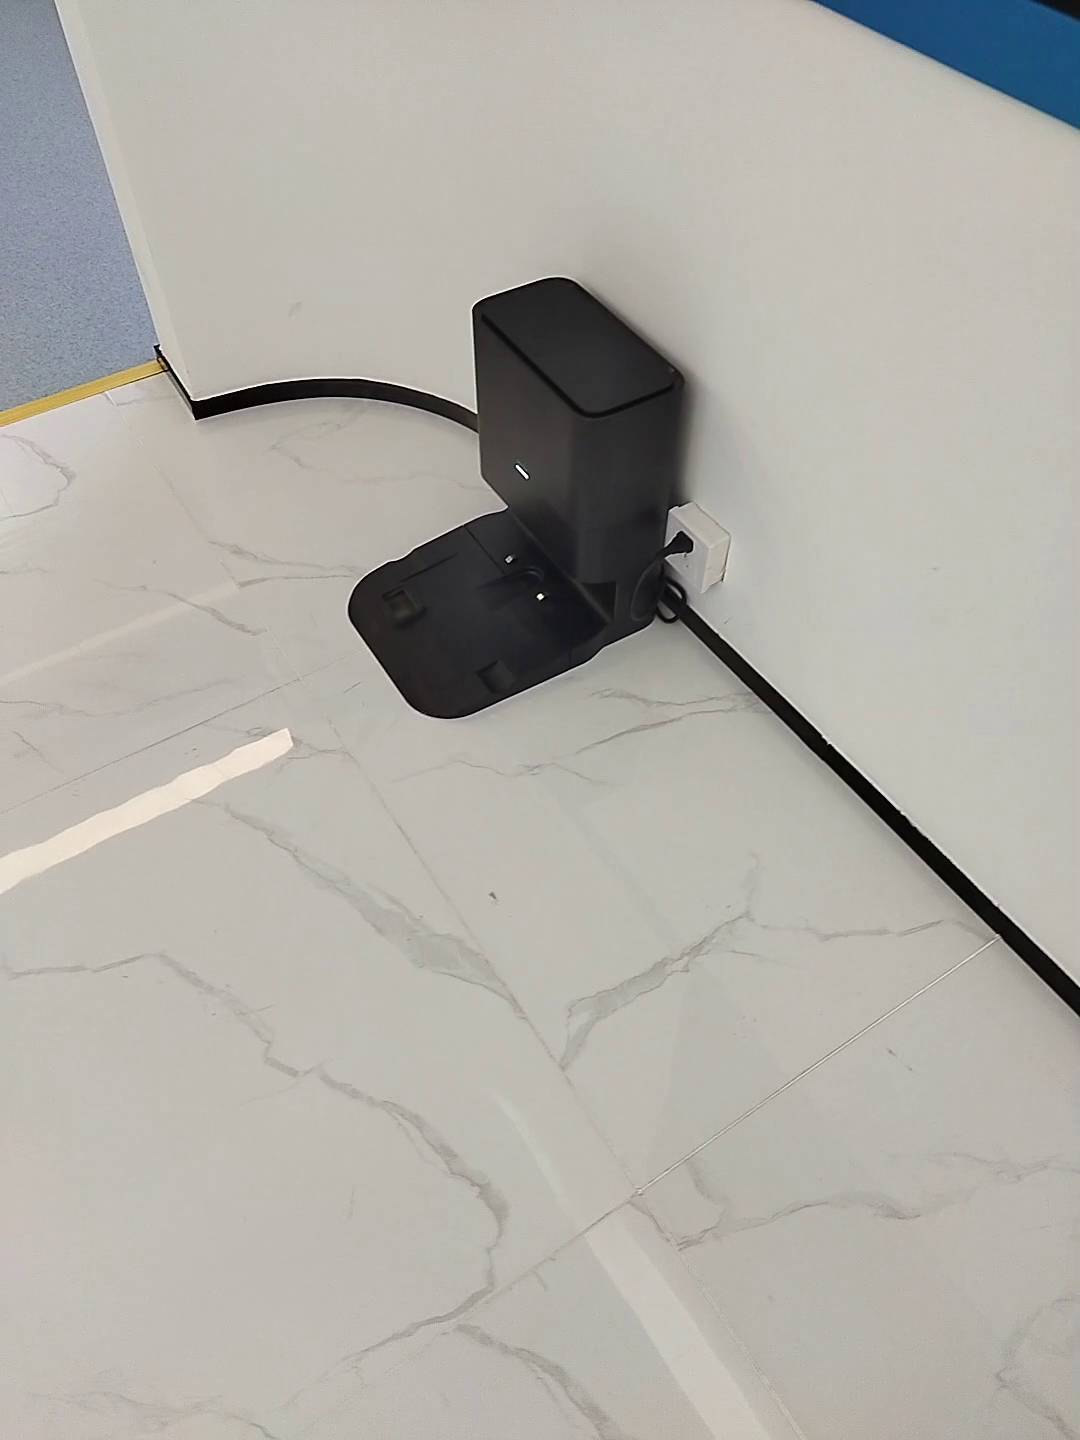dust collecting barrel: (347, 278, 682, 720)
